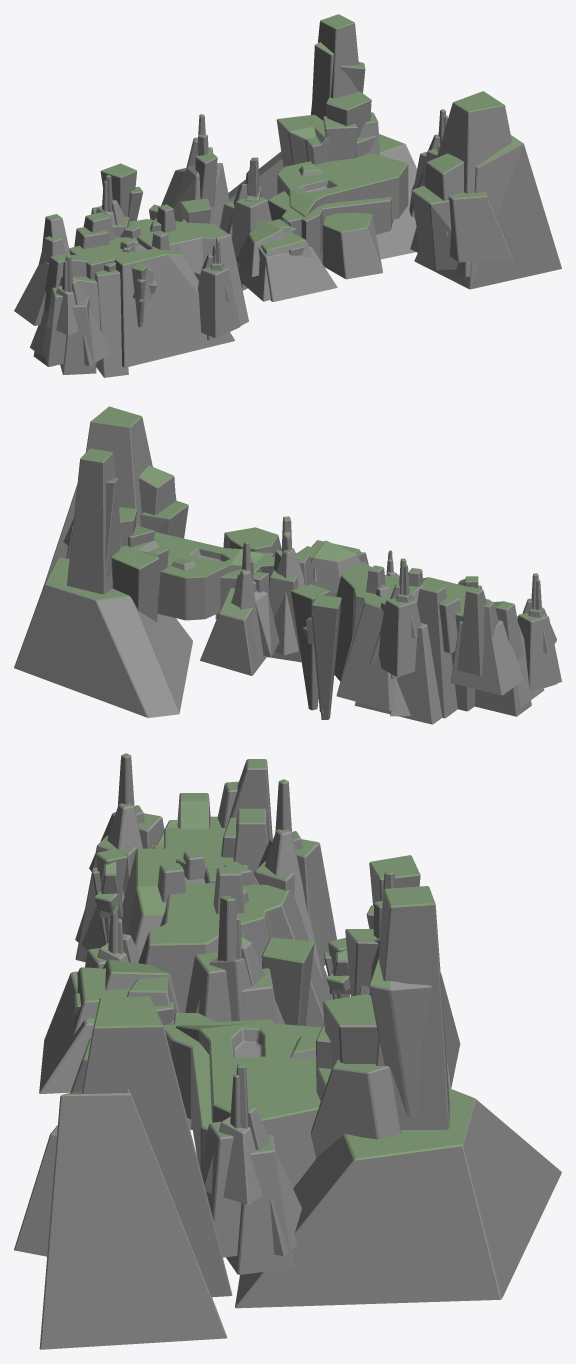
The model's file is ground_mesh.fbx.
3 renders of one model, top to bottom at view 1: azimuth 30°, elevation 25°; view 2: azimuth 150°, elevation 25°; view 3: azimuth 270°, elevation 25°, orthographic. The views are drawn at different scales.
Visible parts, largest first — view 1: island_01_mesh, mountain_01_mesh, mountain_02_mesh, island_04_mesh, island_02_mesh, spikes_01_mesh, island_03_mesh, spikes_04_mesh, spikes_02_mesh, spikes_03_mesh, cliff_01_mesh, cliff_04_mesh (+2 smaller); view 2: mountain_02_mesh, island_01_mesh, mountain_01_mesh, island_04_mesh, spikes_04_mesh, spikes_03_mesh, spikes_01_mesh, cliff_01_mesh, island_02_mesh, cliff_03_mesh, island_03_mesh; view 3: mountain_02_mesh, mountain_01_mesh, island_01_mesh, island_04_mesh, spikes_05_mesh, island_02_mesh, spikes_03_mesh, spikes_01_mesh, cliff_03_mesh, spikes_04_mesh, cliff_04_mesh, cliff_01_mesh (+2 smaller).
Boxes of the visible parts, bbox=[...] form: island_01_mesh: bbox=[14, 175, 248, 377]; mountain_01_mesh: bbox=[410, 91, 561, 289]; mountain_02_mesh: bbox=[228, 14, 417, 263]; island_04_mesh: bbox=[268, 153, 408, 256]; island_02_mesh: bbox=[236, 219, 337, 301]; spikes_01_mesh: bbox=[43, 255, 110, 374]; island_03_mesh: bbox=[322, 212, 382, 279]; spikes_04_mesh: bbox=[161, 114, 229, 227]; spikes_02_mesh: bbox=[194, 237, 240, 340]; spikes_03_mesh: bbox=[219, 157, 271, 290]; cliff_01_mesh: bbox=[100, 163, 142, 221]; cliff_04_mesh: bbox=[131, 263, 156, 327]; mountain_02_mesh: bbox=[14, 448, 192, 717]; island_01_mesh: bbox=[334, 558, 544, 724]; mountain_01_mesh: bbox=[43, 406, 188, 585]; island_04_mesh: bbox=[154, 532, 274, 620]; spikes_04_mesh: bbox=[200, 541, 279, 675]; spikes_03_mesh: bbox=[267, 516, 314, 662]; spikes_01_mesh: bbox=[517, 573, 561, 691]; cliff_01_mesh: bbox=[311, 595, 341, 719]; island_02_mesh: bbox=[297, 540, 368, 596]; cliff_03_mesh: bbox=[291, 584, 329, 710]; island_03_mesh: bbox=[223, 527, 281, 557]; mountain_02_mesh: bbox=[235, 886, 561, 1308]; mountain_01_mesh: bbox=[14, 996, 232, 1349]; island_01_mesh: bbox=[119, 759, 336, 1027]; island_04_mesh: bbox=[163, 1013, 321, 1188]; spikes_05_mesh: bbox=[201, 1063, 301, 1274]; island_02_mesh: bbox=[39, 959, 179, 1093]; spikes_03_mesh: bbox=[185, 895, 284, 1024]; spikes_01_mesh: bbox=[75, 753, 164, 962]; cliff_03_mesh: bbox=[262, 937, 314, 1025]; spikes_04_mesh: bbox=[345, 870, 460, 1088]; cliff_04_mesh: bbox=[92, 849, 127, 944]; cliff_01_mesh: bbox=[366, 855, 420, 928].
Bounding box in the file's own units: 210652 × 94439 × 115477.
